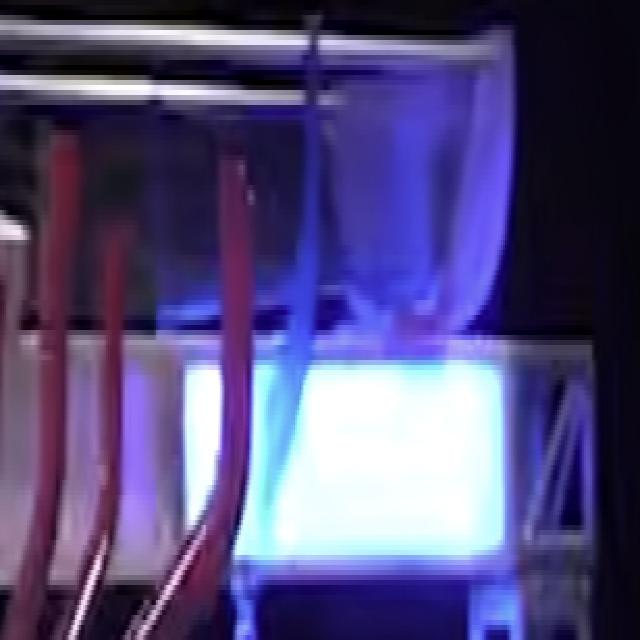Reef: (40, 130, 77, 490), (221, 158, 250, 491), (99, 224, 123, 518)
